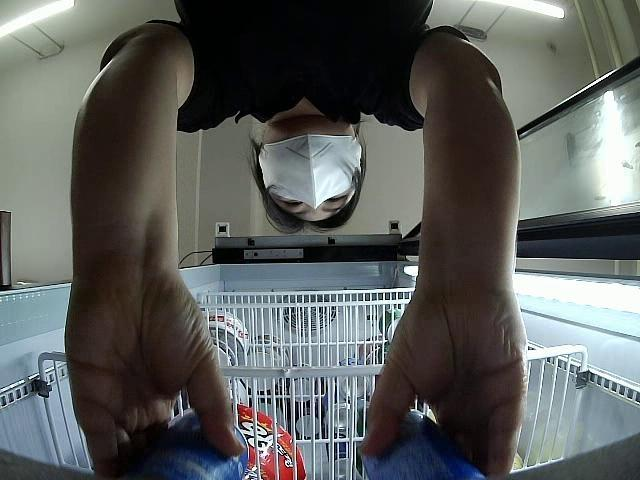15_letsbe: (358, 409, 486, 480), (141, 410, 247, 480)
